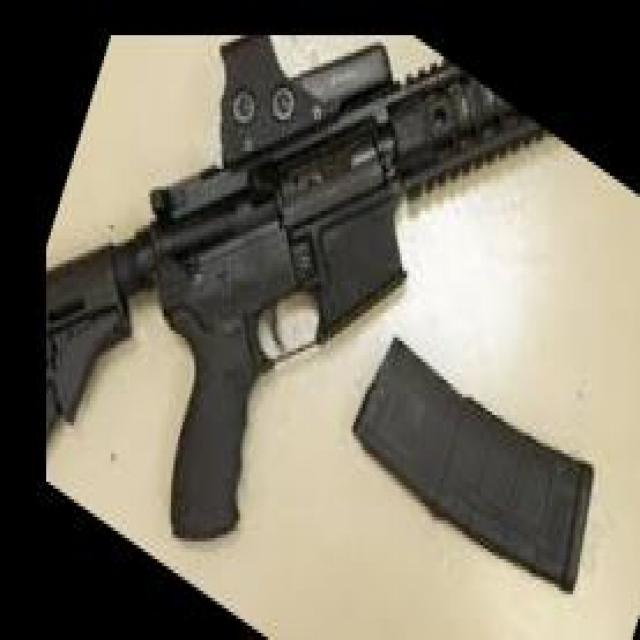weapon: (47, 38, 556, 542)
